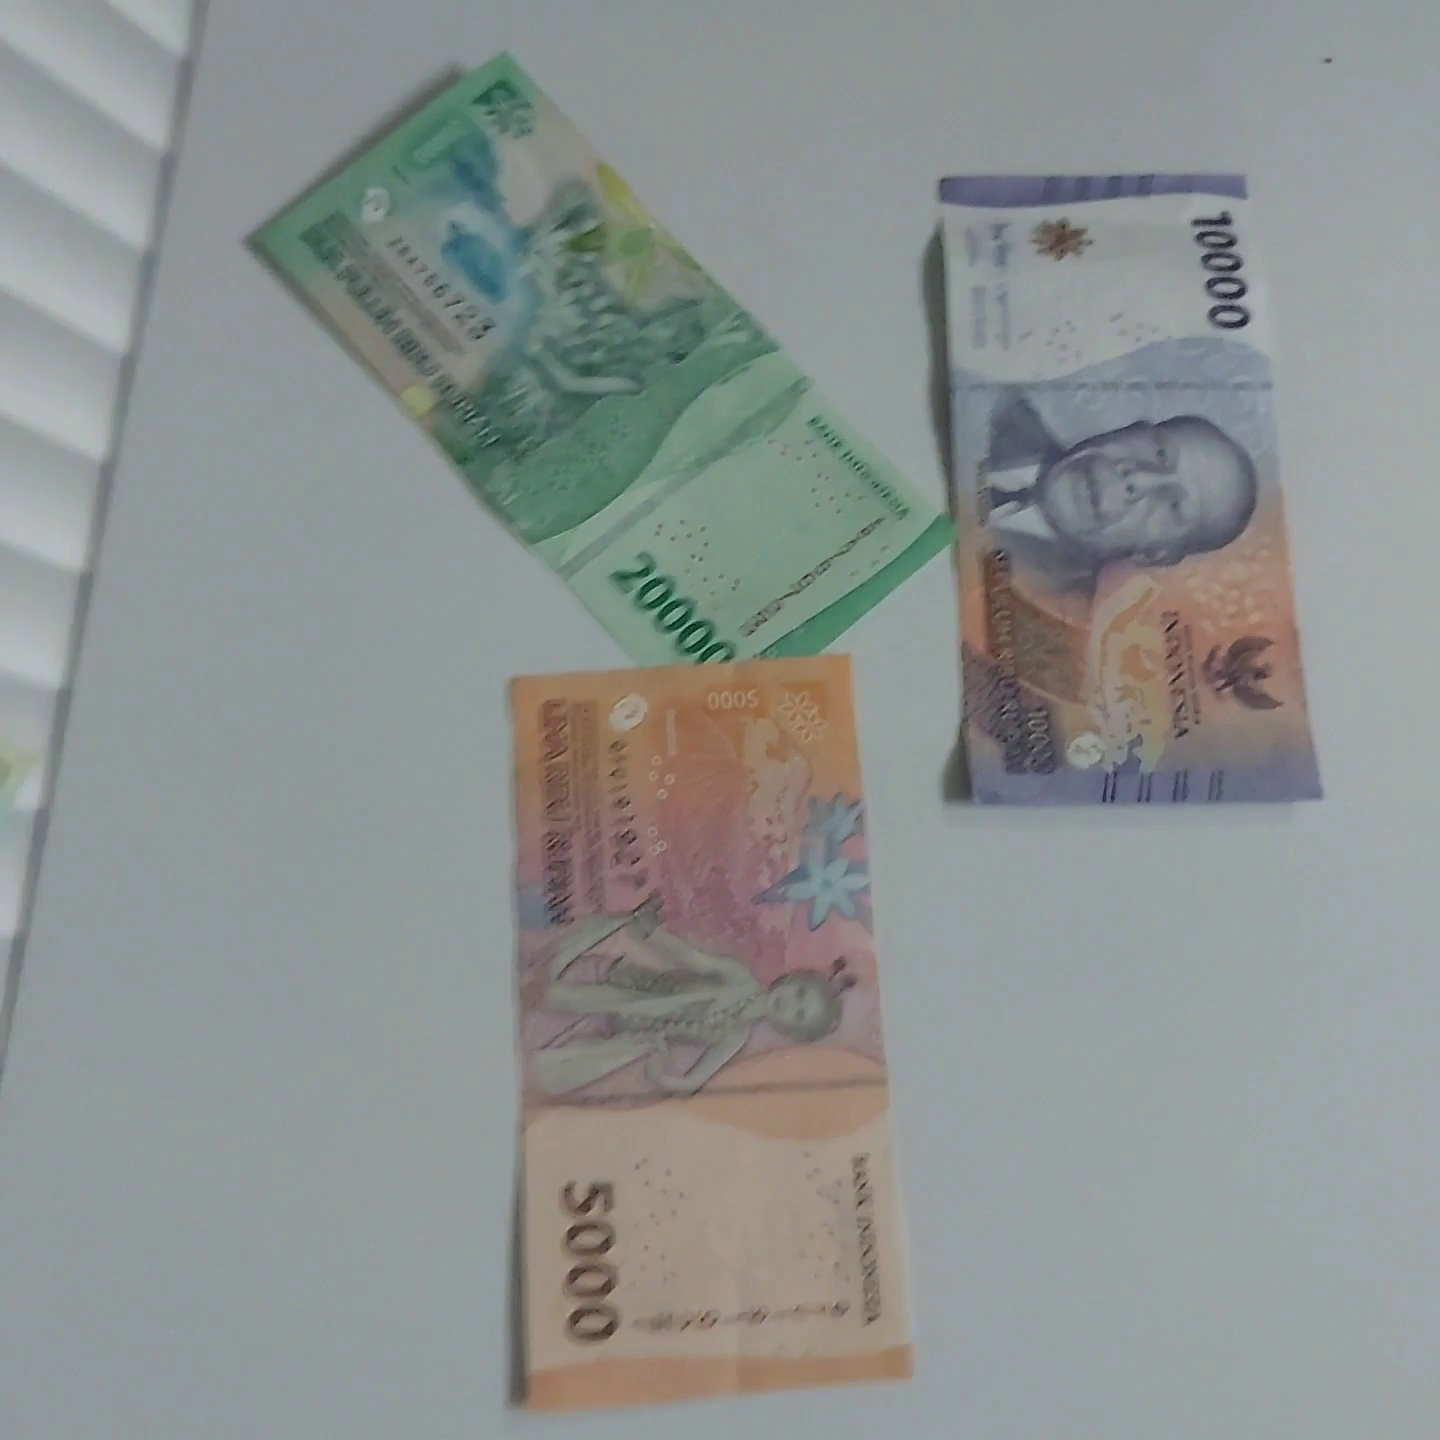10k: (907, 102, 1362, 839)
20k: (236, 252, 609, 953)
5k: (467, 641, 926, 1424)
